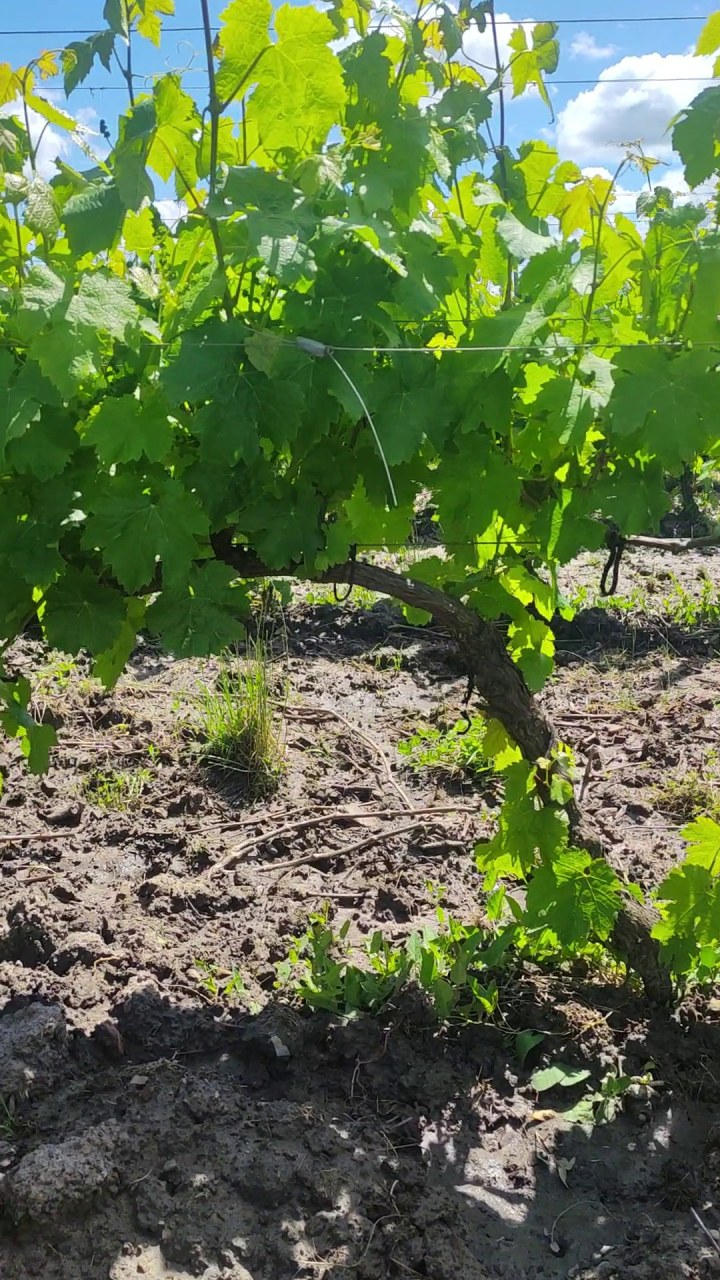vine_trunk: (312, 558, 677, 987)
